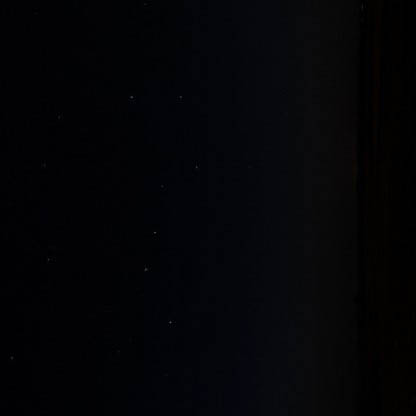Ursa Major: (131, 261, 161, 290), (174, 82, 198, 111), (142, 220, 169, 245), (120, 88, 143, 115), (179, 157, 206, 179), (130, 174, 151, 200), (157, 313, 178, 336)
